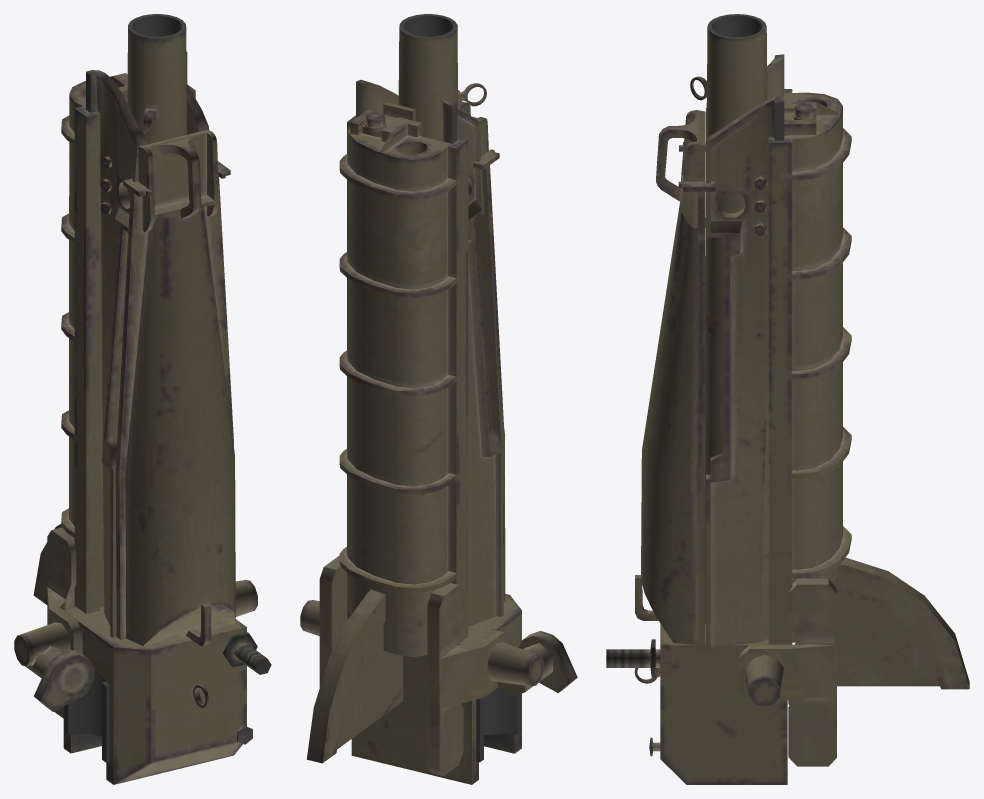
The model's file is Gun_02.glb.
The picture shows the model from 3 angles, left to right: view 1: azimuth 30°, elevation 25°; view 2: azimuth 150°, elevation 25°; view 3: azimuth 270°, elevation 25°; orthographic projection.
Visible parts, largest first — view 1: set_0_group_0; view 2: set_0_group_0; view 3: set_0_group_0.
Part boxes in pixels (x1,y1,x2,y2): set_0_group_0: [14, 14, 271, 784]; set_0_group_0: [300, 14, 577, 784]; set_0_group_0: [606, 14, 969, 784].
Bounding box in the file's own units: 0.526 × 1.52 × 0.6813.
1 material, 1 textured.
